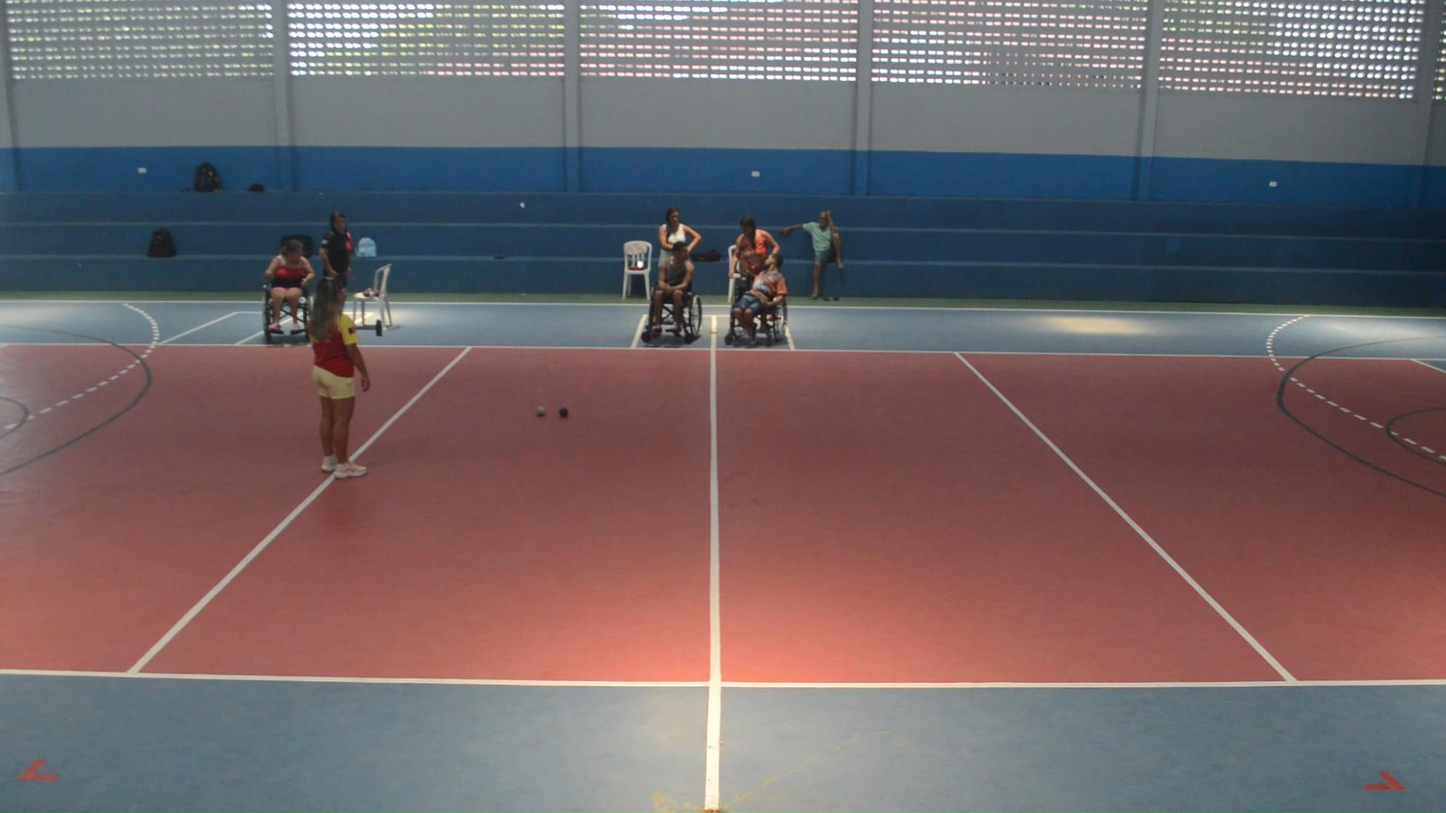red_ball: (559, 407, 569, 418)
white_ball: (535, 405, 546, 417)
